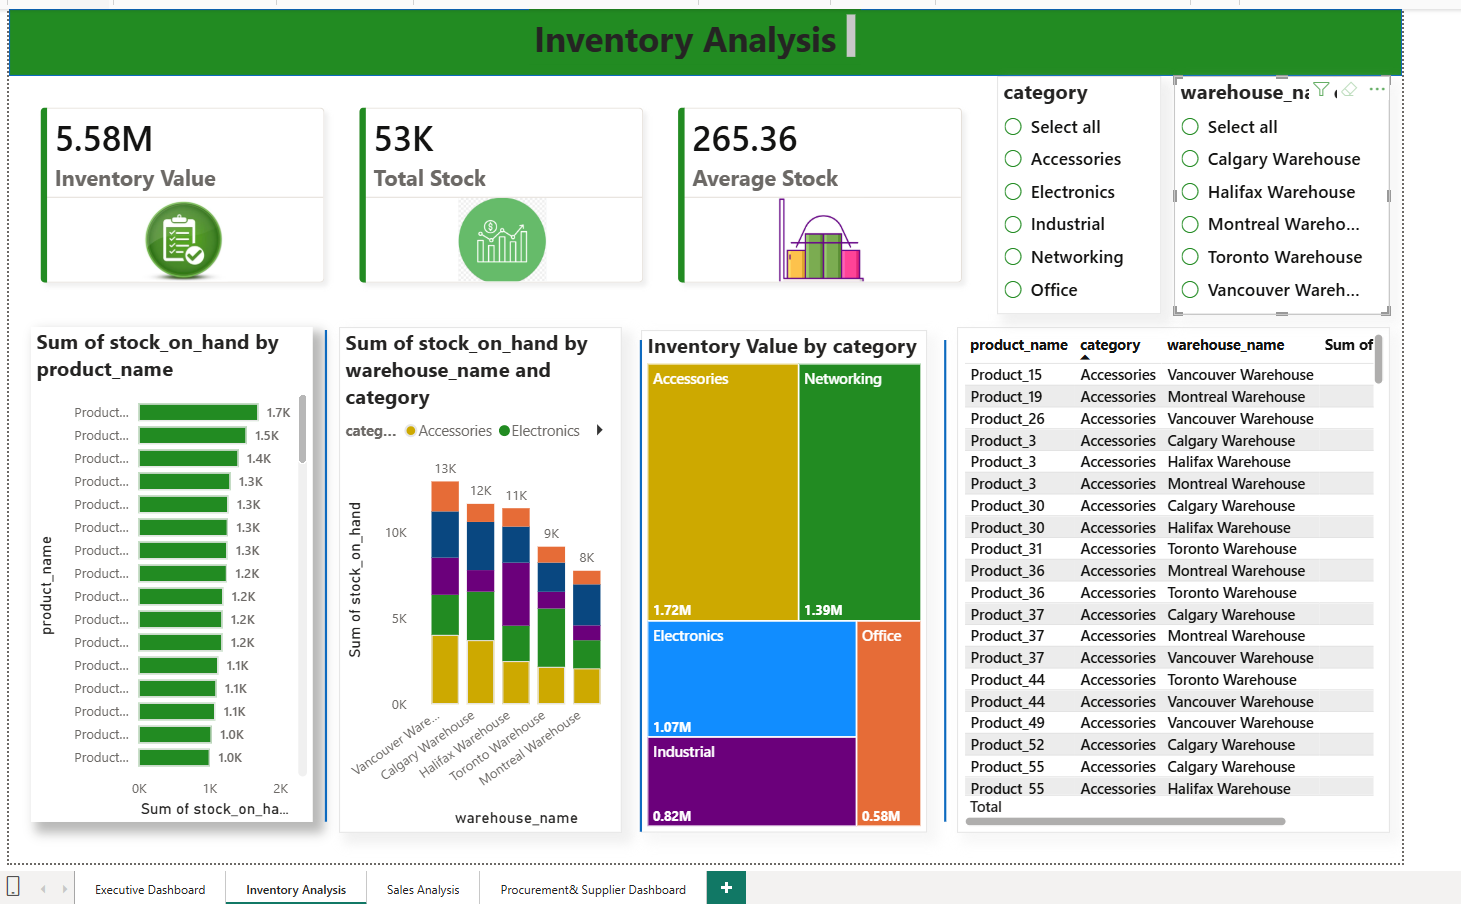

Layout of this report page (visuals, bound fields, positions):
{"tool":"powerbi","page":{"name":"Inventory Analysis","canvas":[1280,785],"ordinal":1},"visuals":[{"type":"clusteredBarChart","fields":{"Category":["products.product_name"],"Y":["Sum(inventory.stock_on_hand)"]},"box":[20.6,292,258.7,455.5],"z":0},{"type":"shape","box":[0,0,1280.5,61.6],"z":1},{"type":"textbox","box":[478.4,0,304.7,50.5],"z":2},{"type":"columnChart","fields":{"Category":["warehouses.warehouse_name"],"Y":["Sum(inventory.stock_on_hand)"],"Series":["products.category"]},"box":[303.1,292,260.3,465],"z":4},{"type":"shape","box":[279.3,295.2,23.8,452.3],"z":5},{"type":"treemap","fields":{"Group":["products.category"],"Values":["Date.Inventory Value"]},"box":[580.8,295.2,263.4,461.8],"z":6},{"type":"shape","box":[574.5,304.7,12.7,452.3],"z":7},{"type":"shape","box":[850.6,304.7,20.6,442.8],"z":8},{"type":"tableEx","fields":{"Values":["products.product_name","products.category","warehouses.warehouse_name","Sum(inventory.stock_on_hand)"]},"box":[871.2,292,398.3,465],"z":9},{"type":"listSlicer","fields":{"Values":["products.category"]},"box":[907.7,61.9,150.8,219],"z":10},{"type":"listSlicer","fields":{"Values":["warehouses.warehouse_name"]},"box":[1071.2,61.9,198.4,219],"z":11},{"type":"cardVisual","fields":{"Data":["Date.Inventory Value","Date.Total Stock","Date.Average Stock"]},"box":[0,61.9,907.7,219],"z":12}]}

Visuals, with their boxes on the page's 1280x785 design canvas (x1, y1, x2, y2). These are canvas units, not pixel positions in the 1461x904 screenshot, which may show the page scaled, cropped or inside an application window:
clusteredBarChart - products.product_name x Sum(inventory.stock_on_hand): [21, 292, 279, 748]
shape: [0, 0, 1280, 62]
textbox: [478, 0, 783, 50]
columnChart - warehouses.warehouse_name x Sum(inventory.stock_on_hand): [303, 292, 563, 757]
shape: [279, 295, 303, 748]
treemap - products.category x Date.Inventory Value: [581, 295, 844, 757]
shape: [574, 305, 587, 757]
shape: [851, 305, 871, 748]
tableEx - products.product_name x products.category: [871, 292, 1270, 757]
listSlicer - products.category: [908, 62, 1058, 281]
listSlicer - warehouses.warehouse_name: [1071, 62, 1270, 281]
cardVisual - Date.Inventory Value x Date.Total Stock: [0, 62, 908, 281]
